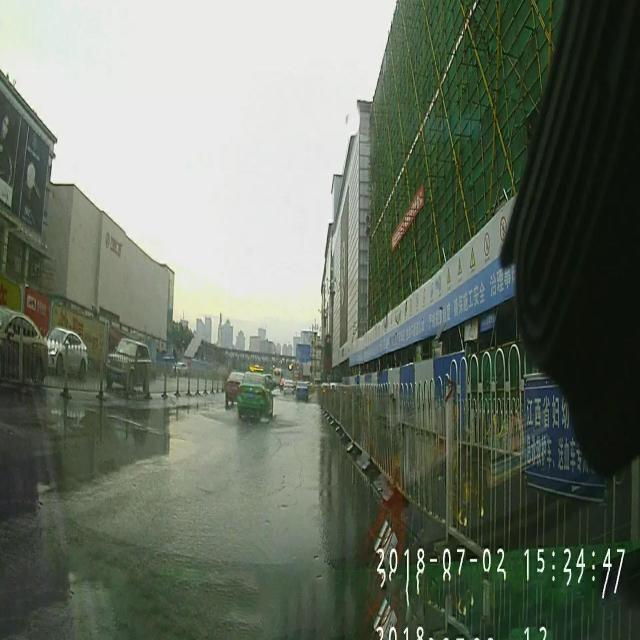car: (0, 309, 48, 386), (106, 339, 151, 390), (44, 326, 88, 378), (236, 371, 275, 417), (227, 372, 244, 406), (296, 382, 310, 399)
